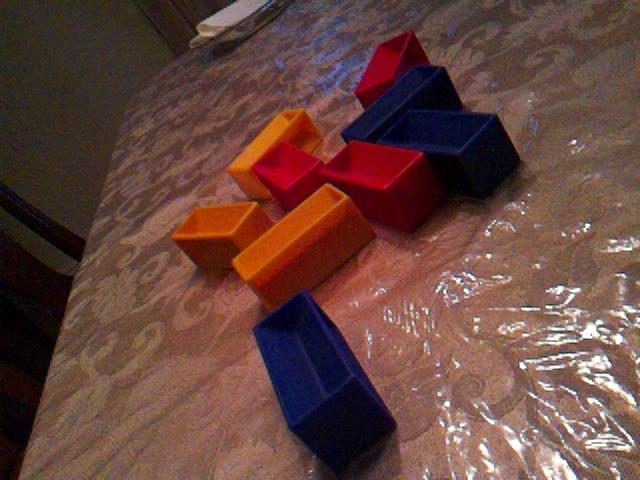blue: (251, 288, 399, 474), (376, 106, 521, 200), (340, 64, 466, 146)
red: (318, 139, 445, 234), (353, 28, 432, 110), (251, 139, 324, 211)
yellow: (231, 182, 377, 312), (226, 106, 325, 201), (171, 200, 274, 271)
